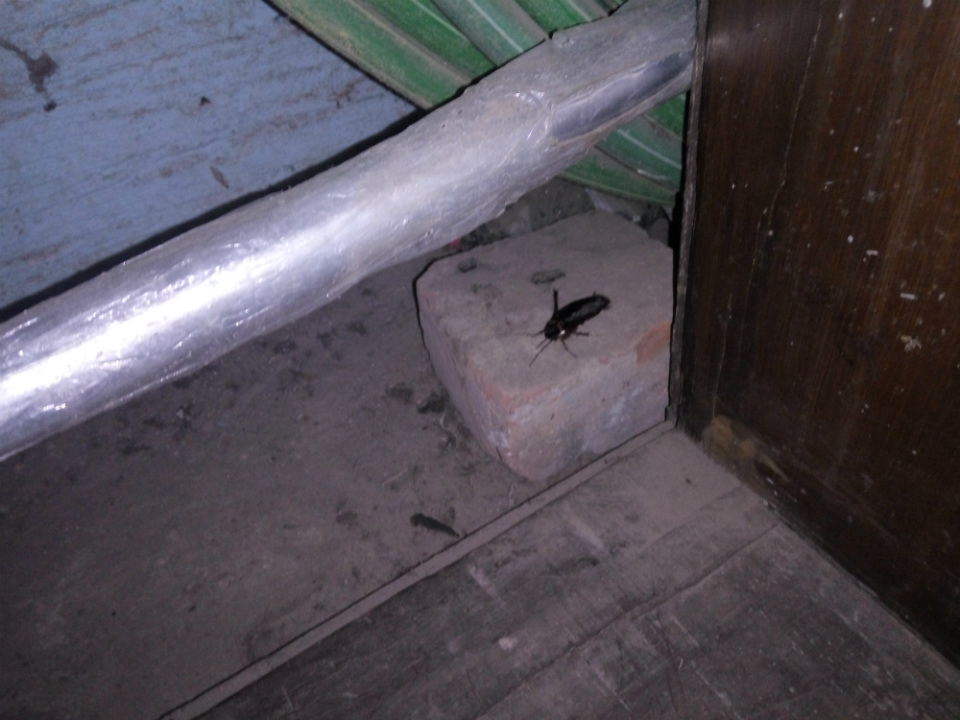cockroach: (482, 284, 635, 367)
